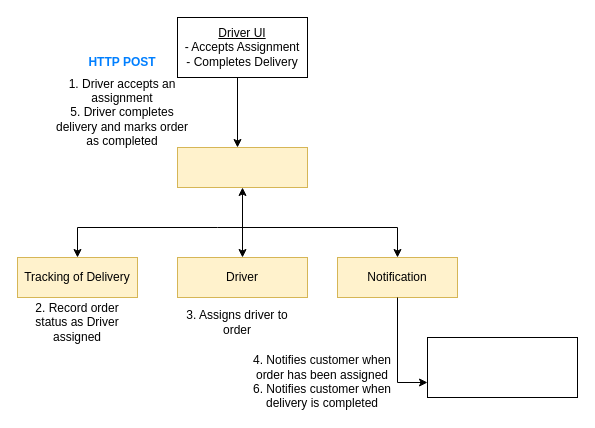
Some shapes in this 595 by 428 pixel diagram are drawn without their labels. Each missing label, with the centre of its shape:
Customer UI - Receives Notification: (x=502, y=367)
Temporal Manager: (x=242, y=167)
